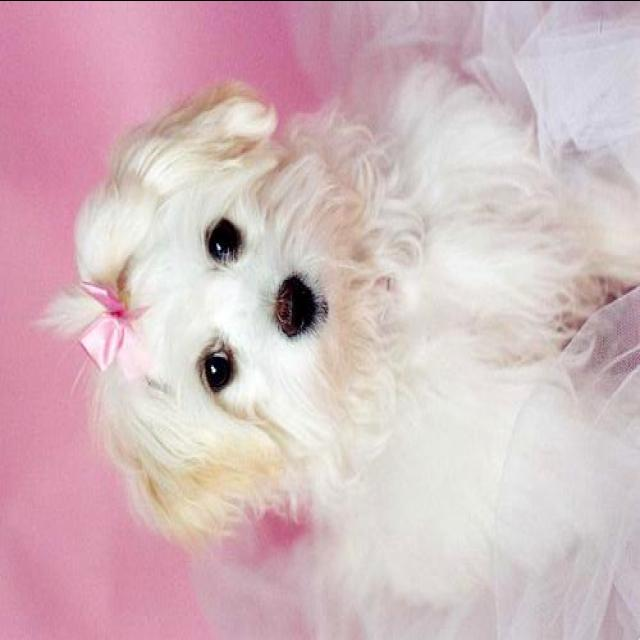maltese_dog: (33, 60, 638, 608)
